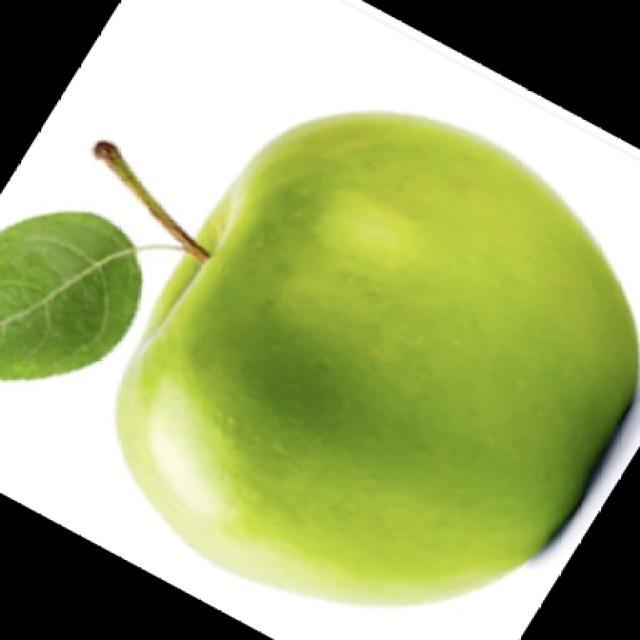Fresh Apple: (116, 110, 640, 603)
